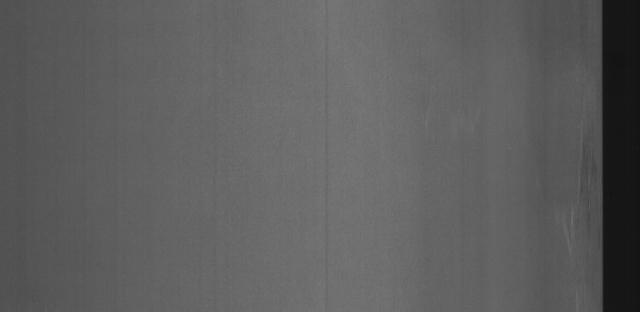silk_spot: (559, 92, 600, 294)
